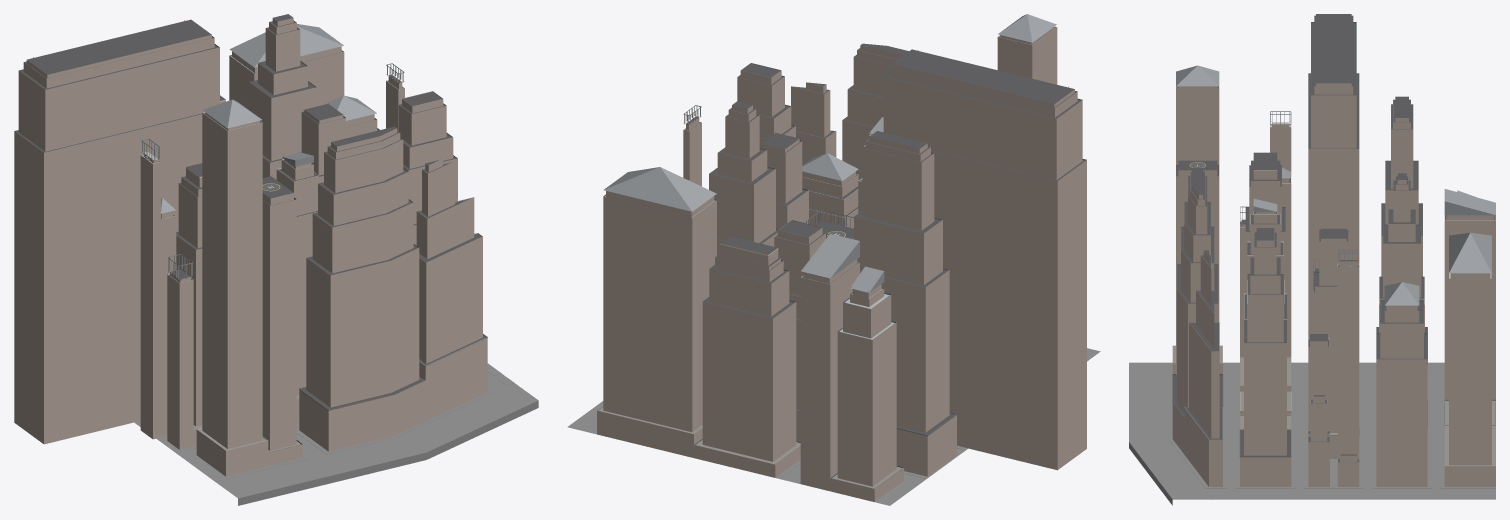
3 renders of one model, left to right at view 1: azimuth 30°, elevation 25°; view 2: azimuth 150°, elevation 25°; view 3: azimuth 270°, elevation 25°, orthographic. The views are drawn at different scales.
Visible parts, largest first — view 1: t27_facade, t27_roof, t27_ground, t27_detail; view 2: t27_facade, t27_roof, t27_detail, t27_ground; view 3: t27_facade, t27_roof, t27_ground, t27_detail.
Boxes of the visible parts, <box> form: t27_facade: <box>14,18,487,476</box>; t27_roof: <box>16,14,486,452</box>; t27_ground: <box>134,363,538,505</box>; t27_detail: <box>15,20,487,452</box>; t27_facade: <box>597,27,1086,501</box>; t27_roof: <box>598,14,1085,488</box>; t27_detail: <box>597,26,1086,488</box>; t27_ground: <box>567,348,1100,505</box>; t27_facade: <box>1172,83,1495,486</box>; t27_roof: <box>1172,14,1495,465</box>; t27_ground: <box>1129,362,1495,505</box>; t27_detail: <box>1172,15,1495,466</box>.
Bounding box in the file's own units: 485 × 415 × 430.
